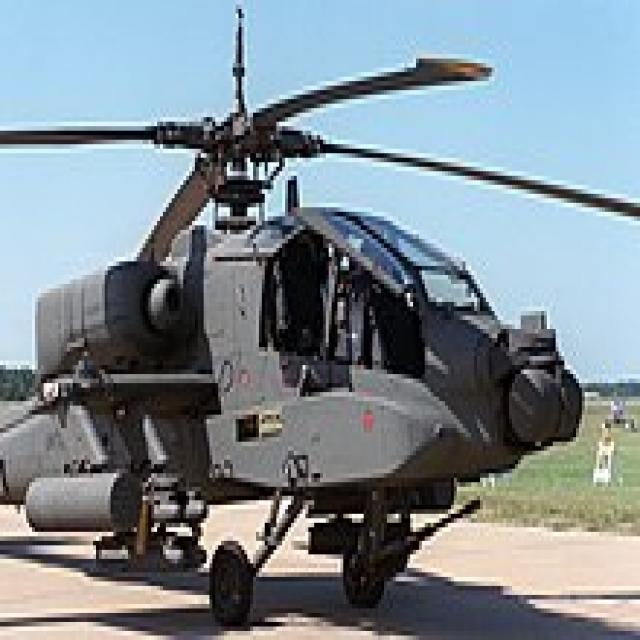Apache: (8, 22, 590, 618)
